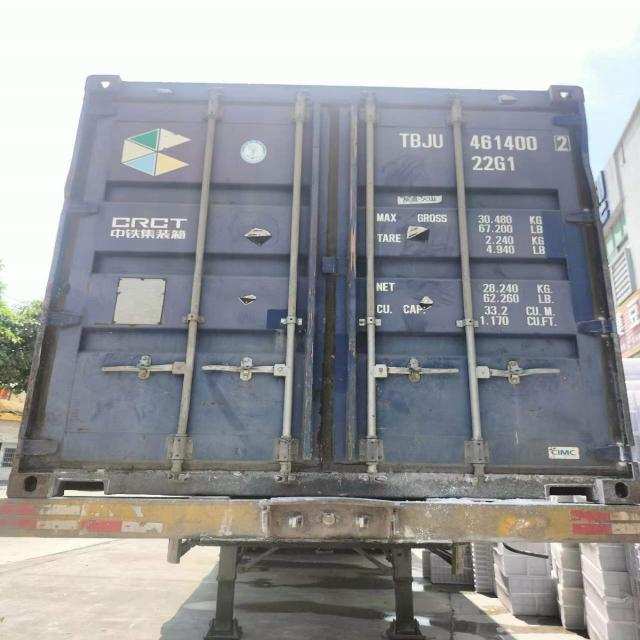ISO: (474, 154, 516, 173)
container_number: (398, 136, 567, 154)
